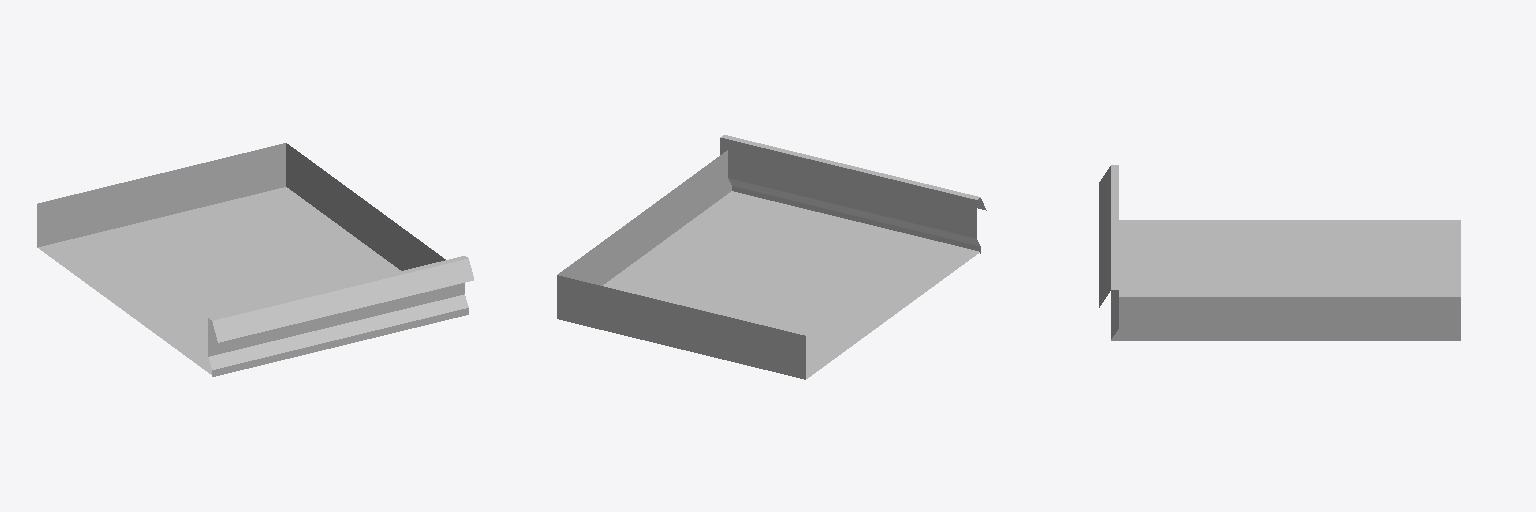
Rendered from original-14.obj.
3 renders of one model, left to right at view 1: azimuth 30°, elevation 25°; view 2: azimuth 150°, elevation 25°; view 3: azimuth 270°, elevation 25°, orthographic.
Visible parts, largest first — view 1: Component_4_1/Component_4/mesh13/mesh13-geometry#mesh13-geometry; view 2: Component_4_1/Component_4/mesh13/mesh13-geometry#mesh13-geometry; view 3: Component_4_1/Component_4/mesh13/mesh13-geometry#mesh13-geometry.
Part boxes in pixels (x1,y1,x2,y2): Component_4_1/Component_4/mesh13/mesh13-geometry#mesh13-geometry: (37,143,473,376); Component_4_1/Component_4/mesh13/mesh13-geometry#mesh13-geometry: (557,135,986,379); Component_4_1/Component_4/mesh13/mesh13-geometry#mesh13-geometry: (1099,165,1460,340).
Size of the model in its own units: 0.4189 by 0.0879 by 0.5109.